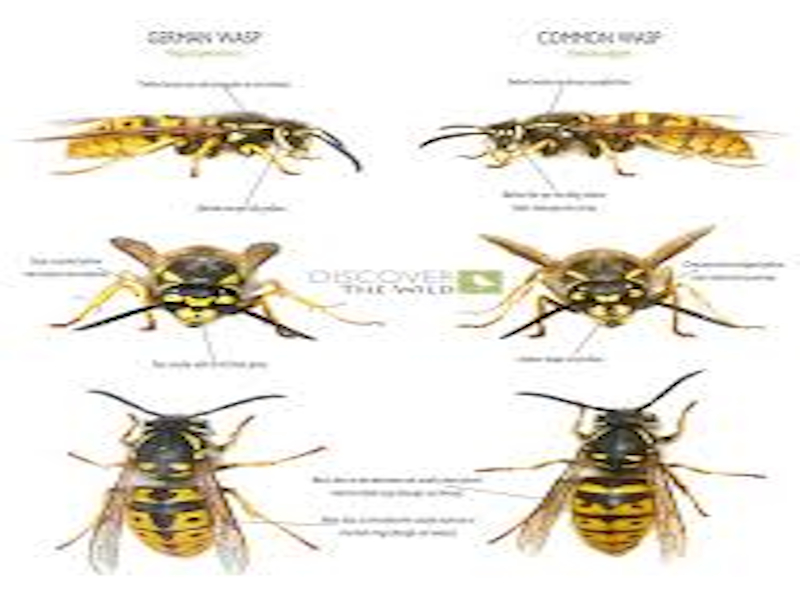chax: (482, 378, 748, 564), (47, 388, 309, 571), (30, 95, 376, 199), (426, 102, 782, 182), (505, 224, 693, 345), (100, 230, 303, 340)
